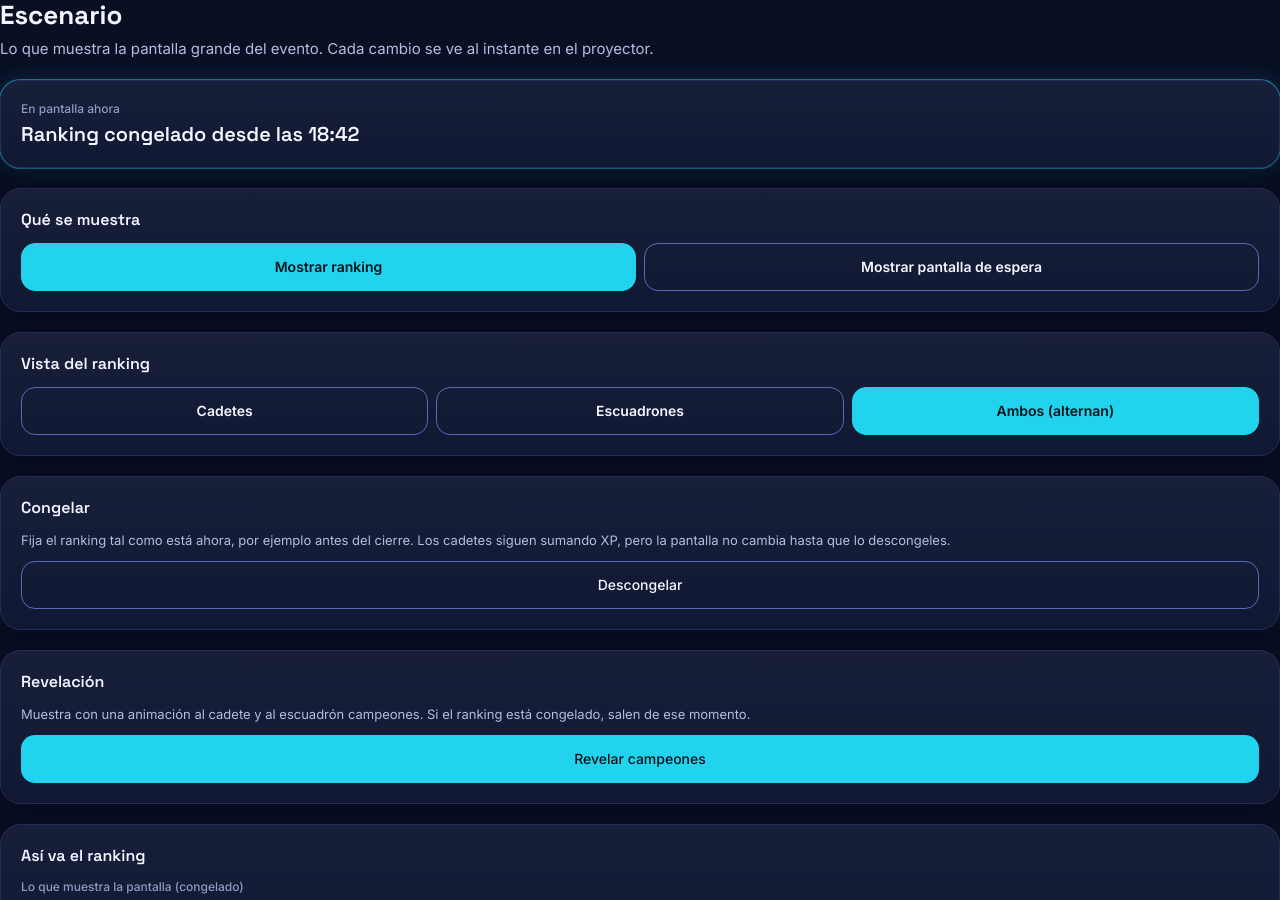
StageControlView › explains a refusal or a failure, without refreshing
Step 1. Click the button "Descongelar" → (640, 585), box [21,561,1259,609]
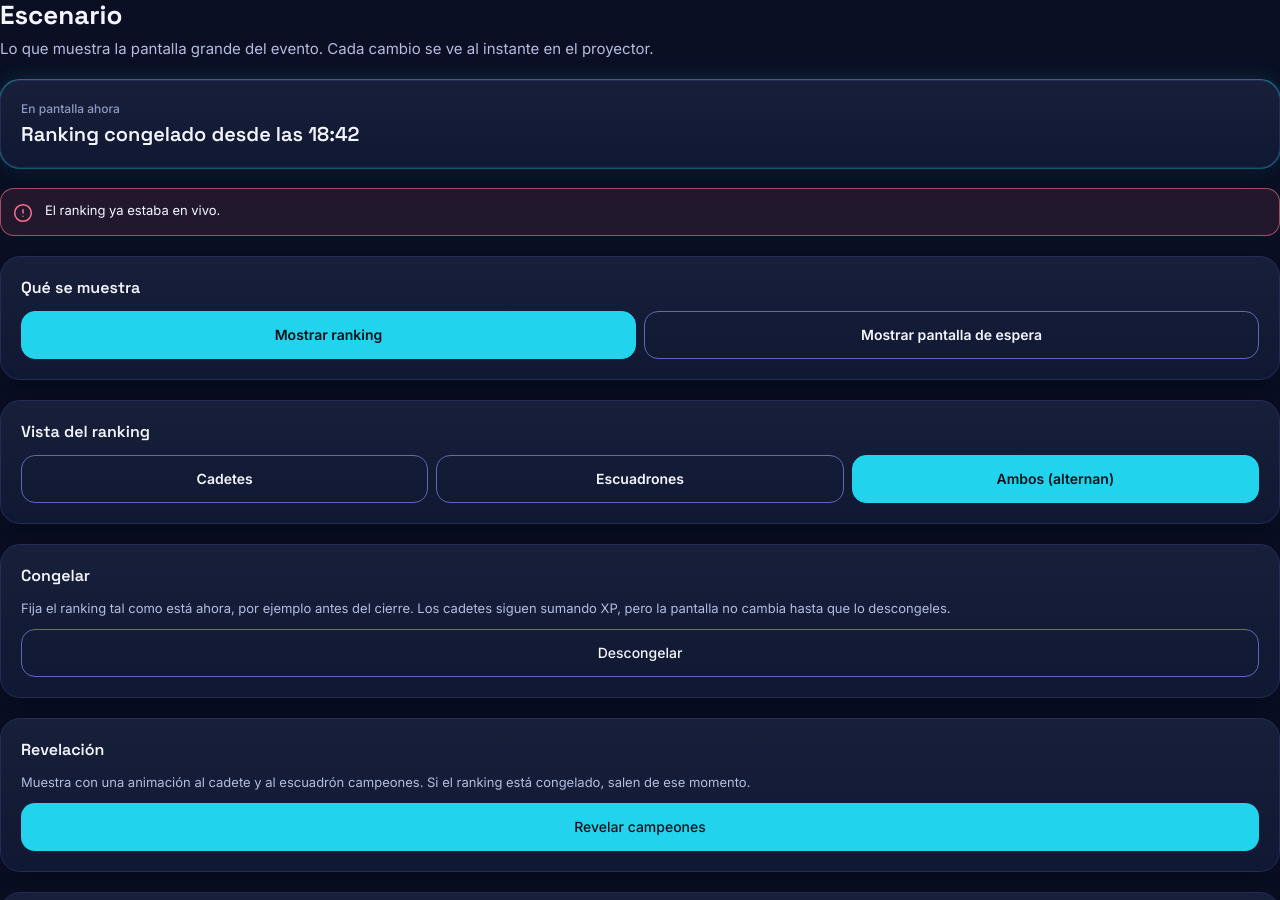
Expected: the text "El ranking ya estaba en vivo." is shown, [45,201,220,219]
Step 2. Click the button "Descongelar" → (640, 653), box [21,629,1259,677]
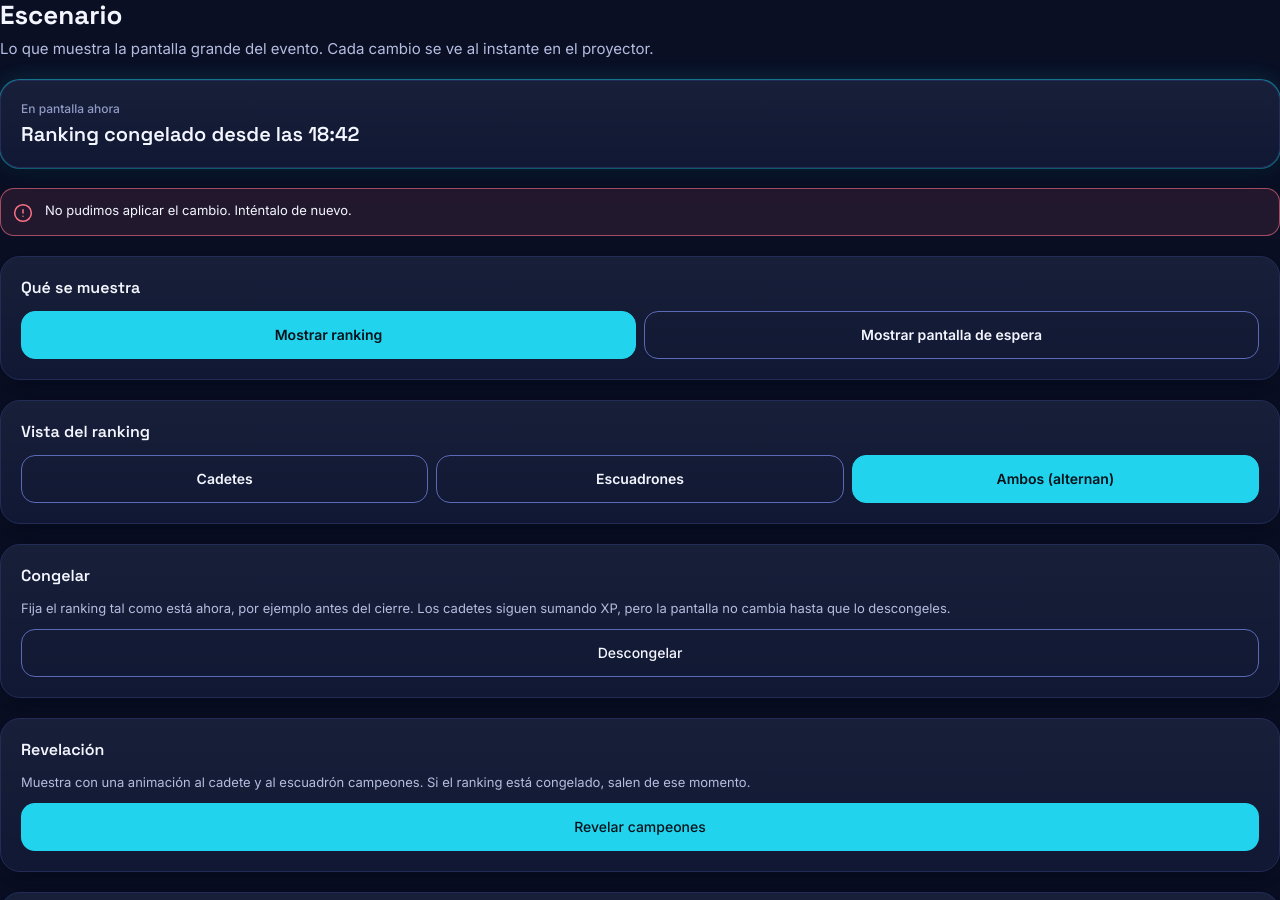
Expected: the text "No pudimos aplicar el cambio. Inténtalo de nuevo." is shown, [45,201,352,219]
